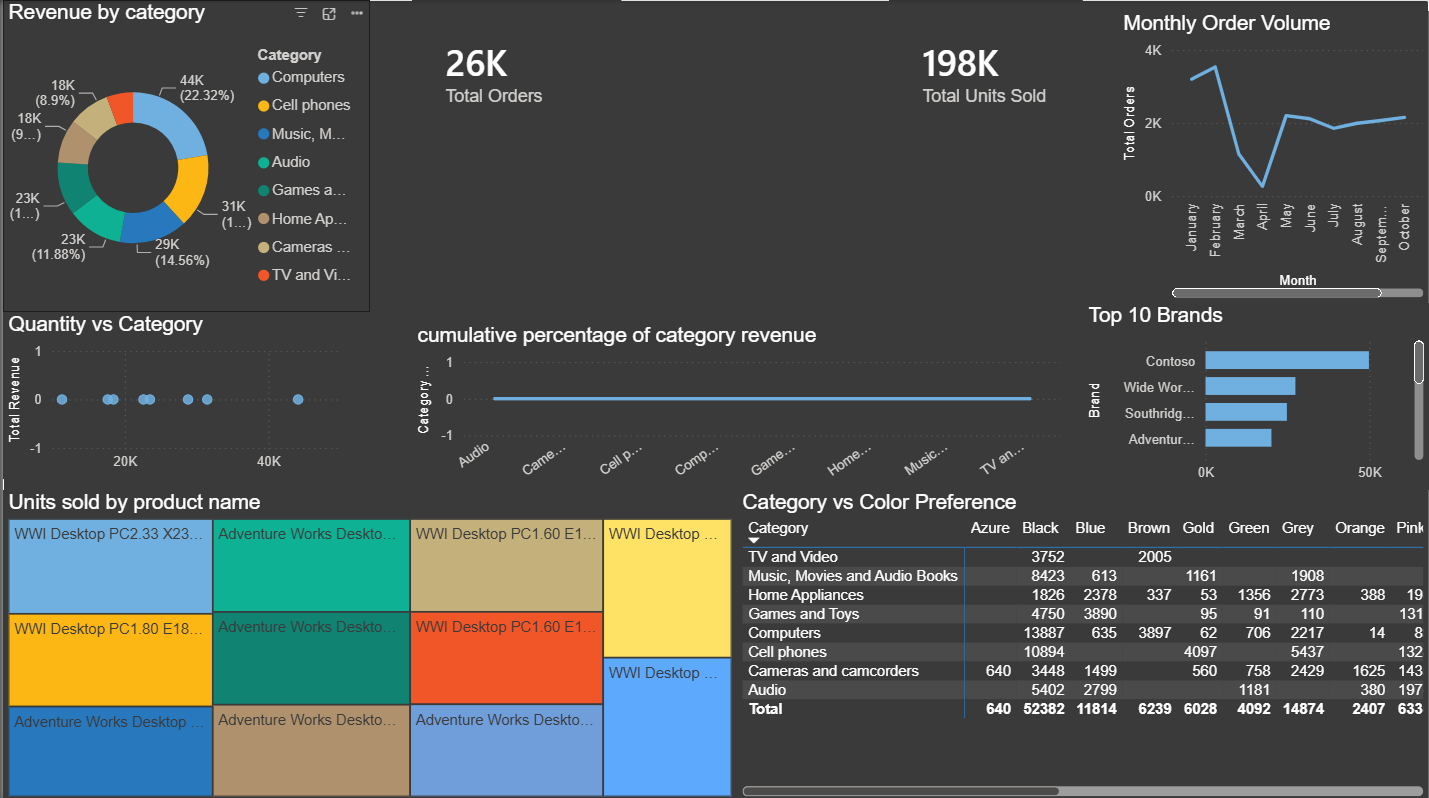

What the dashboard file says about the page in this screenshot:
{"tool":"powerbi","page":{"name":"Page 1","canvas":[1280,720],"ordinal":0},"visuals":[{"type":"cardVisual","fields":{"Data":["enriched_sales.Total Orders"]},"box":[367.2,0,187.6,127.5],"z":0},{"type":"cardVisual","fields":{"Data":["enriched_sales.Total Units Sold"]},"box":[795.4,0,174.2,127.5],"z":1000},{"type":"donutChart","title":"Revenue by category","fields":{"Category":["enriched_sales.Category"],"Y":["Sum(enriched_sales.Quantity)"]},"box":[0,0,329.5,280.1],"z":2000},{"type":"clusteredBarChart","title":"Top 10 Brands","fields":{"Category":["enriched_sales.Brand"],"Y":["Sum(enriched_sales.Quantity)"]},"box":[969.6,272,310.6,167.9],"z":3000},{"type":"lineChart","title":" Monthly Order Volume","fields":{"Category":["enriched_sales.Order Date.Variation.Date Hierarchy.Month"],"Y":["enriched_sales.Total Orders"]},"box":[1001,9.9,279.2,262.1],"z":4000},{"type":"treemap","title":"Units sold by product name","fields":{"Group":["enriched_sales.Product Name"],"Values":["enriched_sales.Total Units Sold"]},"box":[0,439.9,659,280.1],"z":5000},{"type":"pivotTable","title":"Category vs Color Preference","fields":{"Rows":["enriched_sales.Category"],"Columns":["enriched_sales.Color"],"Values":["enriched_sales.Total Units Sold"]},"box":[659,439.9,621.2,280.1],"z":6000},{"type":"lineChart","title":"cumulative percentage of category revenue","fields":{"Category":["enriched_sales.Category"],"Y":["enriched_sales.Category Revenue"]},"box":[367.2,290,587.1,149.9],"z":7000},{"type":"scatterChart","title":"Quantity vs Category","fields":{"X":["enriched_sales.Total Units Sold"],"Y":["enriched_sales.Total Revenue"],"Category":["enriched_sales.Category"]},"box":[0,280.1,318.7,149.9],"z":8000}]}

Visuals, with their boxes in screenshot pixels (x1, y1, x2, y2), scaled from the page's 1280x720 canvas onto the 1429x798 screenshot:
cardVisual - enriched_sales.Total Orders: 410 0 619 141
cardVisual - enriched_sales.Total Units Sold: 888 0 1082 141
"Revenue by category" donutChart: 0 0 368 310
"Top 10 Brands" clusteredBarChart: 1082 301 1428 488
" Monthly Order Volume" lineChart: 1118 11 1428 301
"Units sold by product name" treemap: 0 488 736 797
"Category vs Color Preference" pivotTable: 736 488 1428 797
"cumulative percentage of category revenue" lineChart: 410 321 1065 488
"Quantity vs Category" scatterChart: 0 310 356 477
